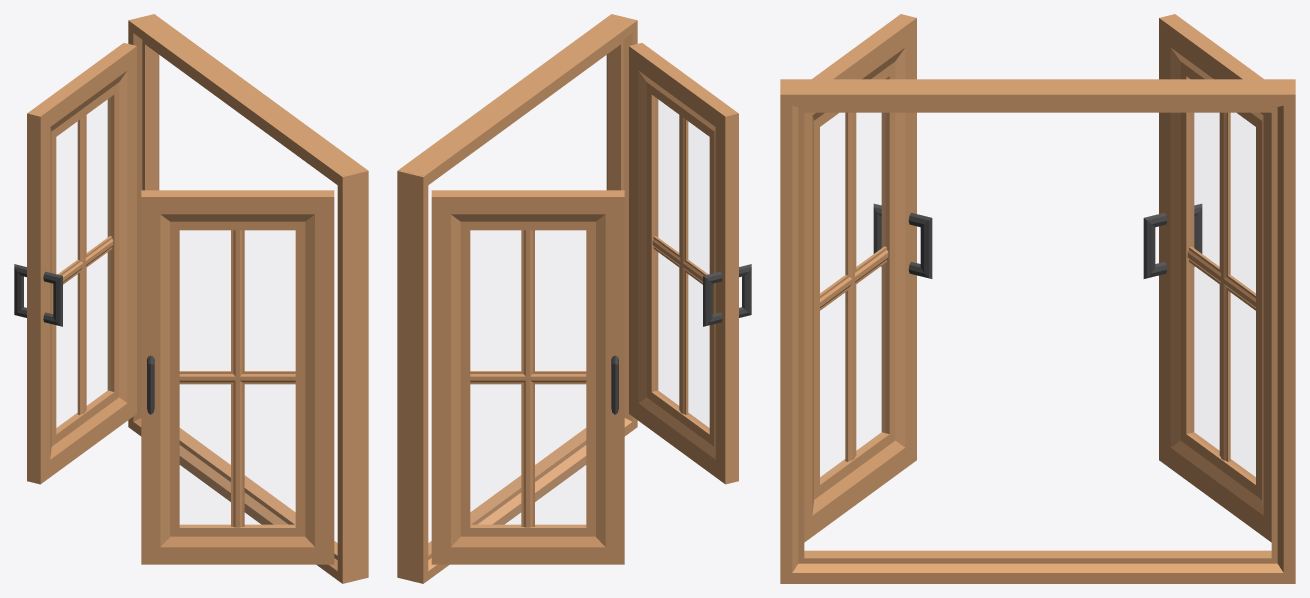
File: window.fbx
The picture shows the model from 3 angles, left to right: view 1: azimuth 30°, elevation 25°; view 2: azimuth 150°, elevation 25°; view 3: azimuth 270°, elevation 25°; orthographic projection. The views are drawn at different scales.
Visible parts, largest first — view 1: Cube.010, Plane.000, Cube.000; view 2: Plane.000, Cube.010, Cube.000; view 3: Cube.000, Plane.000, Cube.010.
Boxes of the visible parts, x1,y1,x2,y2 form: Cube.010: [141, 190, 334, 564]; Plane.000: [14, 43, 136, 484]; Cube.000: [128, 14, 368, 583]; Plane.000: [431, 190, 624, 564]; Cube.010: [629, 43, 751, 484]; Cube.000: [397, 14, 637, 583]; Cube.000: [780, 79, 1295, 583]; Plane.000: [1143, 14, 1271, 542]; Cube.010: [804, 14, 932, 542].
Bounding box in the file's own units: 97.01 × 209 × 200.
